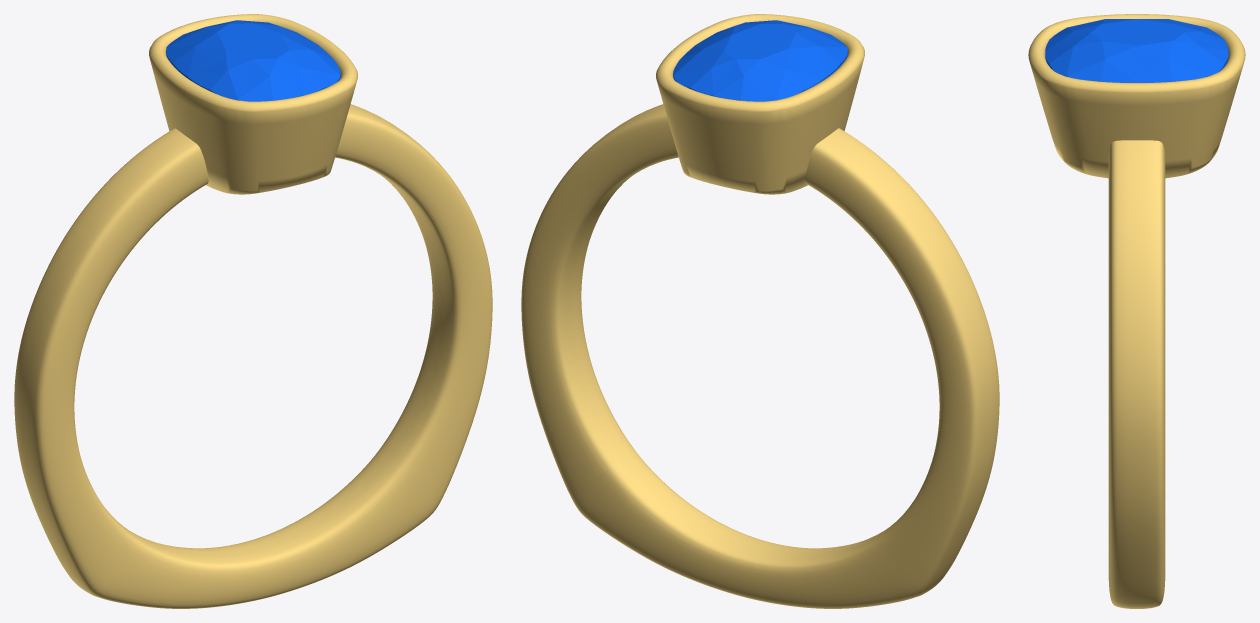
Rendered from bluesapphire-cushion-yellowgold-bezelset-europeanshank-nosidestones.glb.
The picture shows the model from 3 angles, left to right: view 1: azimuth 30°, elevation 25°; view 2: azimuth 150°, elevation 25°; view 3: azimuth 270°, elevation 25°; orthographic projection. The views are drawn at different scales.
Parts seen in each view (by area): view 1: metal.001, stone; view 2: metal.001, stone; view 3: metal.001, stone.
Boxes of the visible parts, x1,y1,x2,y2 form: metal.001: (14,14,492,608); stone: (166,20,340,101); metal.001: (521,14,999,608); stone: (673,20,847,101); metal.001: (1028,14,1245,608); stone: (1045,19,1228,82).
Size of the model in its own units: 20.1 by 23.04 by 8.45.
